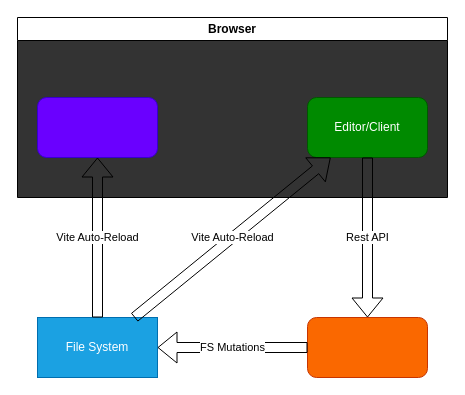
The diagram is 465 pixels wide and 395 high, and some of its shapes have lost their labels. Each missing label, with the centre of its shape:
"Game/Client" belongs at point (97, 127).
"NodeJS Server" belongs at point (367, 347).
